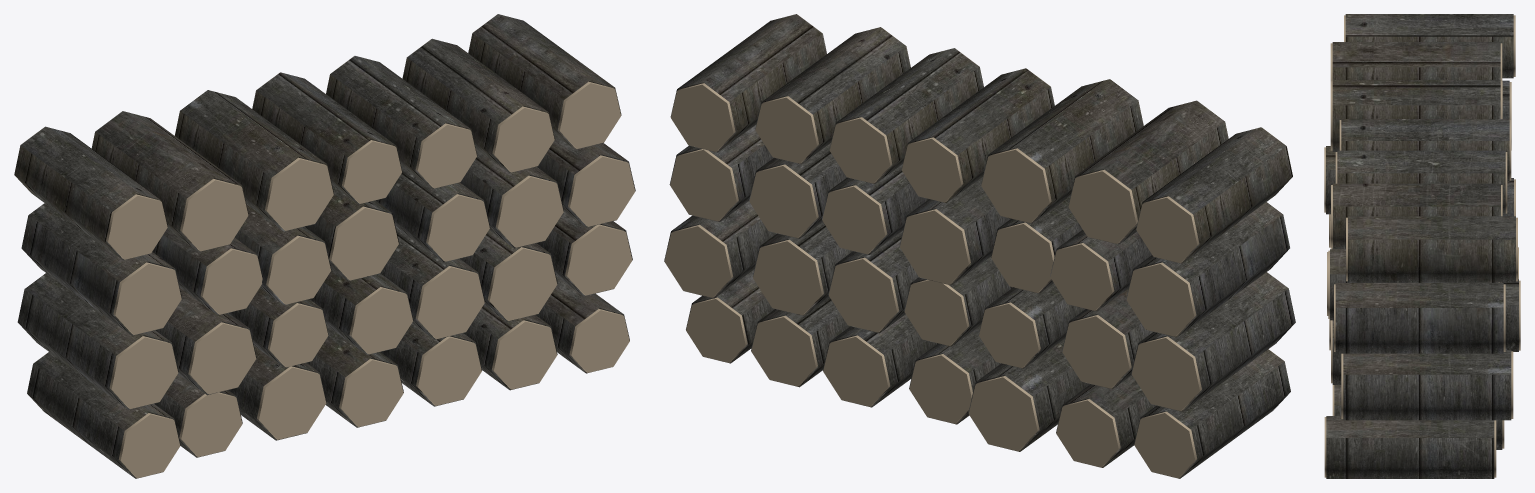
The model's file is porch_woodpile.glb.
3 views of the same model, side by side, from view 1: azimuth 30°, elevation 25°; view 2: azimuth 150°, elevation 25°; view 3: azimuth 270°, elevation 25° (orthographic). The views are drawn at different scales.
Visible parts, largest first — view 1: porch_woodpile; view 2: porch_woodpile; view 3: porch_woodpile.
Boxes of the visible parts, bbox=[...] form: porch_woodpile: bbox=[14, 14, 635, 478]; porch_woodpile: bbox=[664, 14, 1295, 478]; porch_woodpile: bbox=[1324, 14, 1520, 478].
Size of the model in its own units: 1.53 by 0.7978 by 0.5378.
2 materials, 1 textured.
